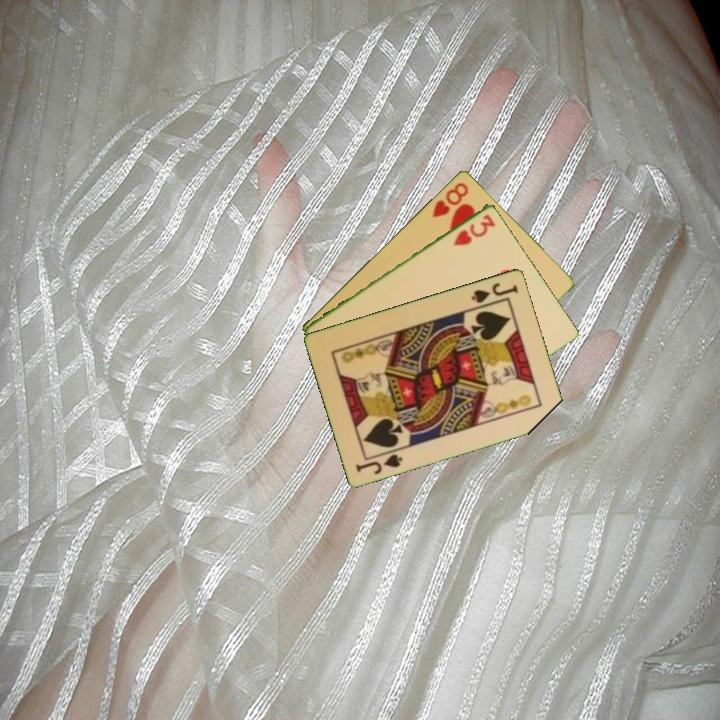3h: (450, 210, 498, 248)
8h: (428, 179, 472, 221)
Js: (352, 446, 406, 477), (468, 278, 521, 306)
